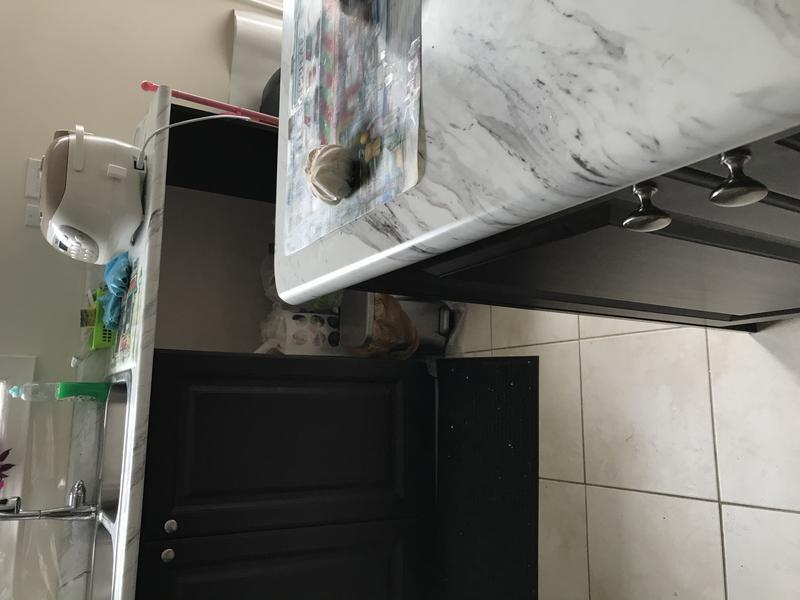garlic: (298, 141, 360, 209)
